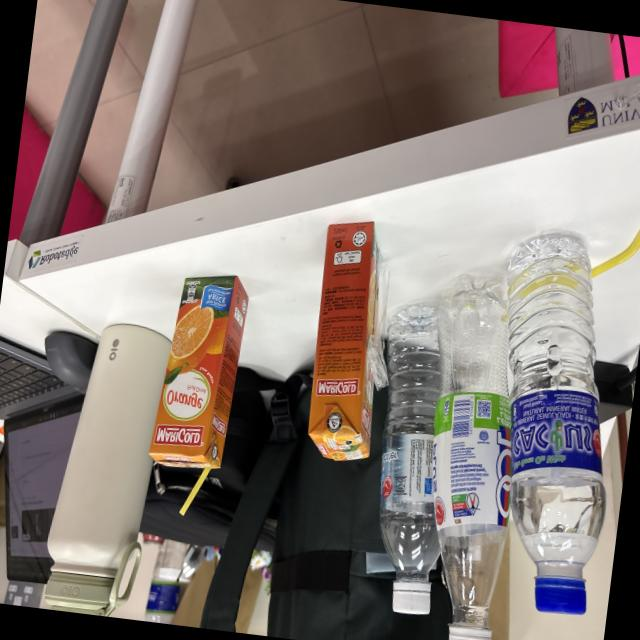drink_carton: (132, 257, 262, 529), (294, 206, 410, 480)
plastic_bottle: (461, 203, 640, 625), (397, 243, 547, 640), (355, 268, 481, 624)
